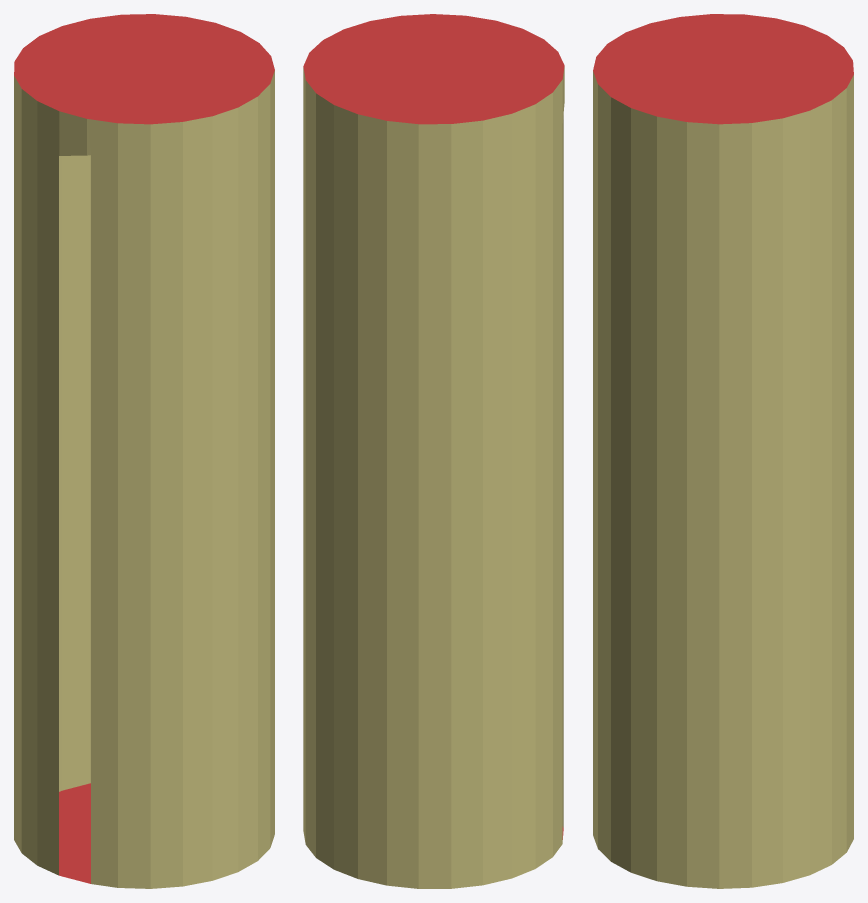
3 views of the same model, side by side, from view 1: azimuth 30°, elevation 25°; view 2: azimuth 150°, elevation 25°; view 3: azimuth 270°, elevation 25° (orthographic).
Bounding box in the file's own units: 3.33 × 3.33 × 10.78.
